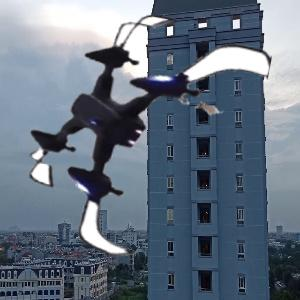drone: (2, 7, 257, 262)
